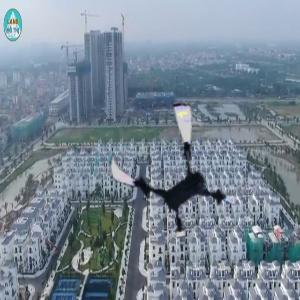drone: (110, 105, 242, 237)
